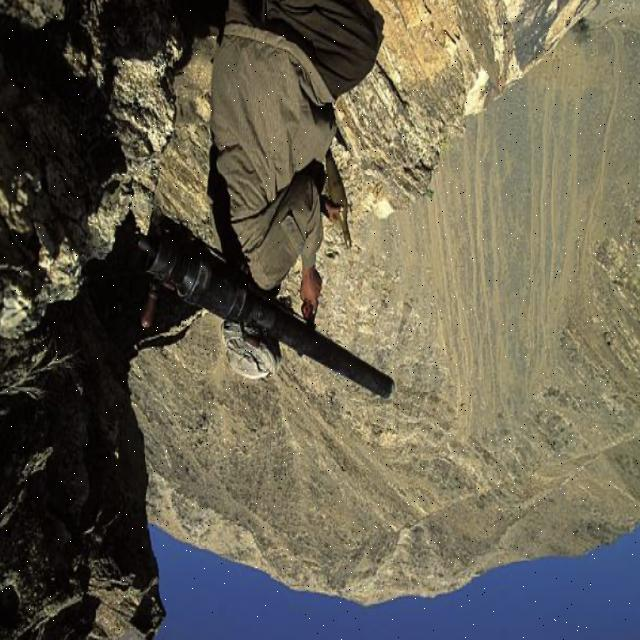bazooka: (134, 203, 407, 418)
